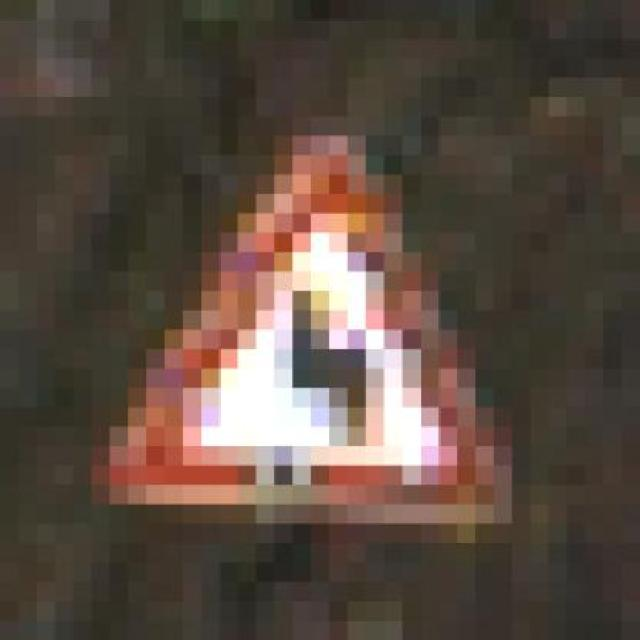Left Zig Zag Traffic: (91, 116, 548, 544)
